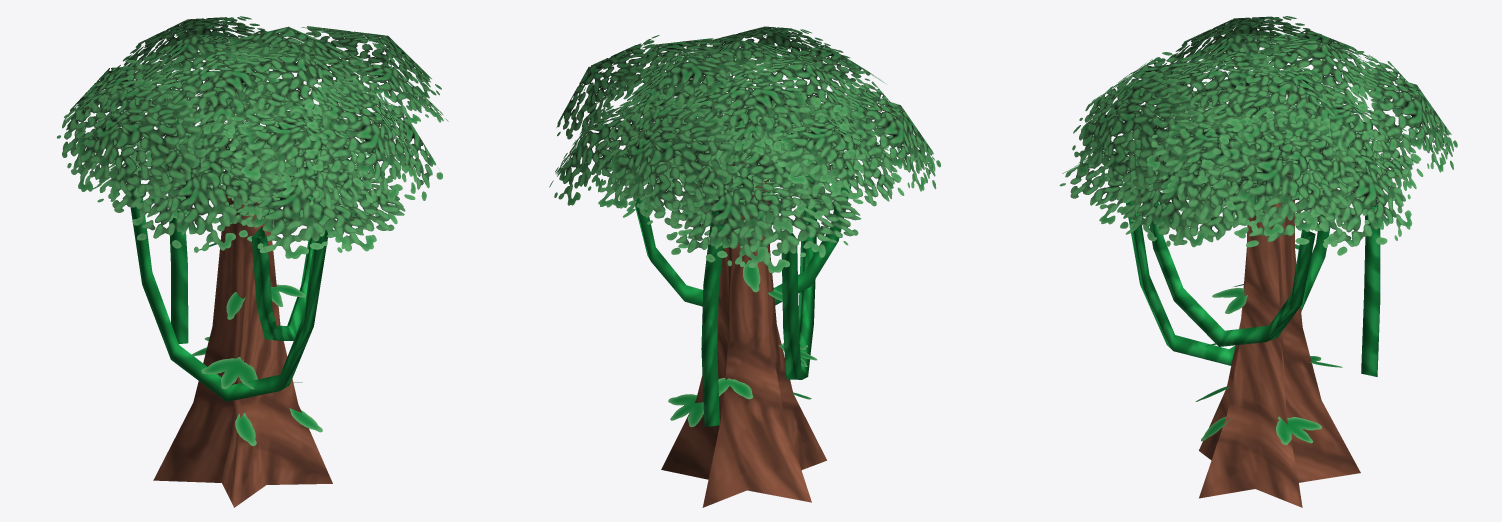
File: JungleTree-2.fbx
3 views of the same model, side by side, from view 1: azimuth 30°, elevation 25°; view 2: azimuth 150°, elevation 25°; view 3: azimuth 270°, elevation 25° (orthographic). The views are drawn at different scales.
Parts seen in each view (by area): view 1: JungleTree-2; view 2: JungleTree-2; view 3: JungleTree-2.
Boxes of the visible parts, bbox=[...] form: JungleTree-2: bbox=[56, 16, 448, 507]; JungleTree-2: bbox=[549, 26, 940, 507]; JungleTree-2: bbox=[1059, 16, 1457, 507].
Size of the model in its own units: 243 by 219 by 233.
